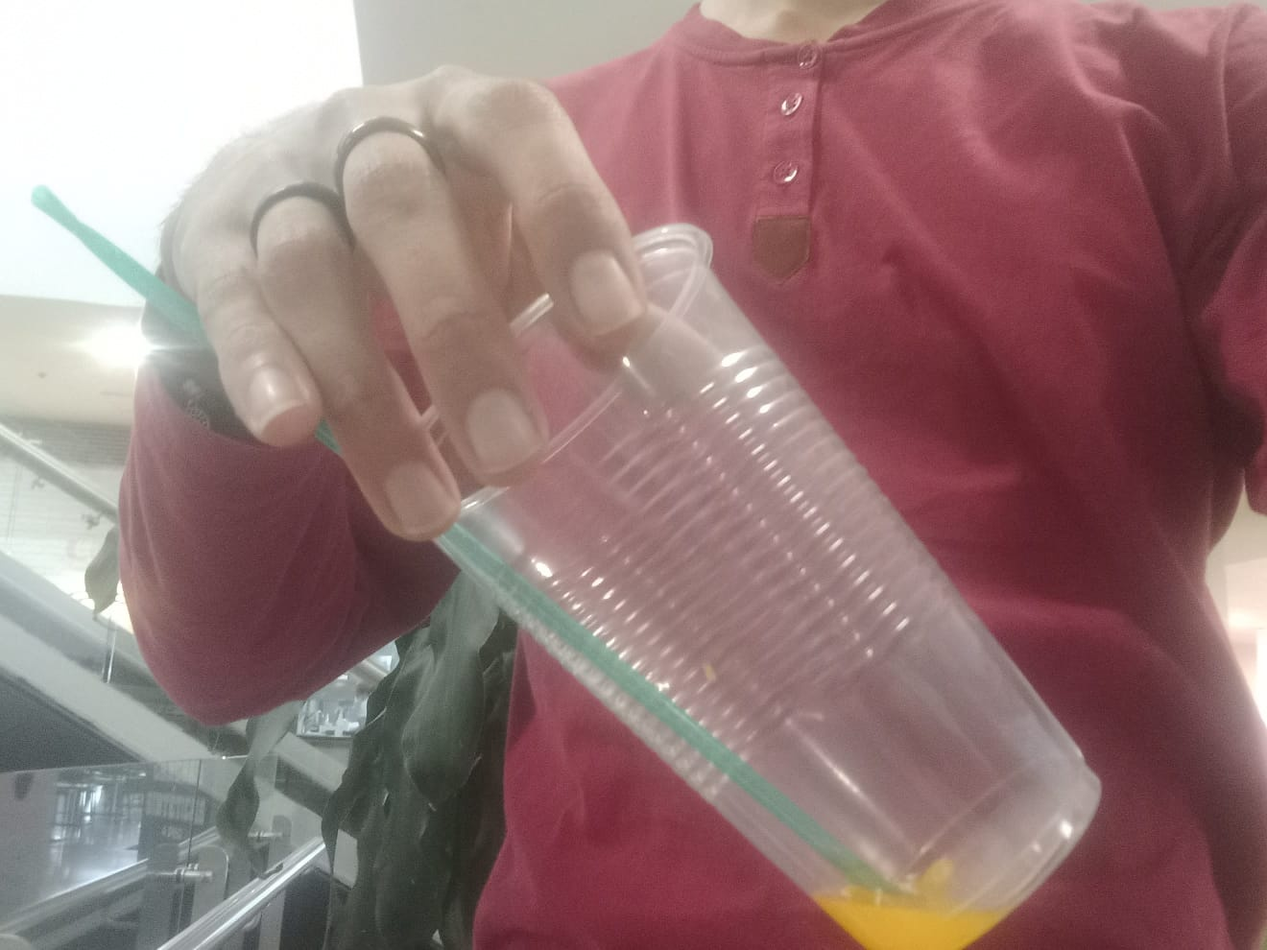Plastico: (406, 221, 1104, 950)
